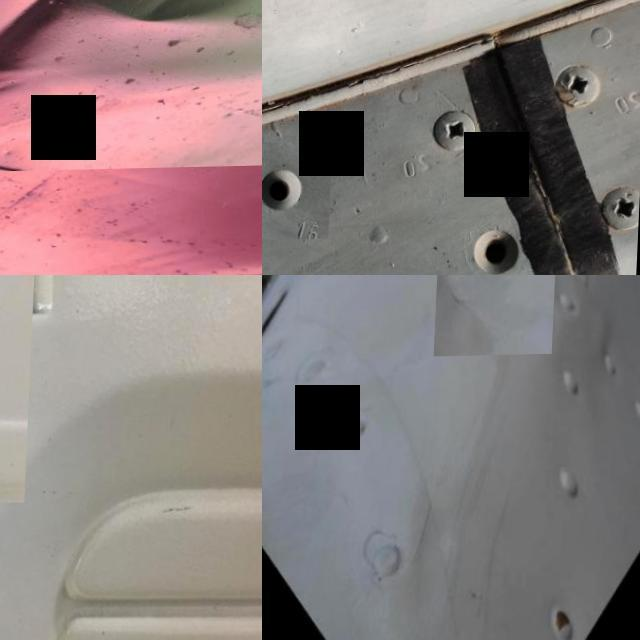Dent: (0, 0, 262, 178), (407, 458, 470, 632), (443, 275, 555, 357)
Missing_Fastener: (446, 199, 556, 275), (262, 142, 335, 241)
